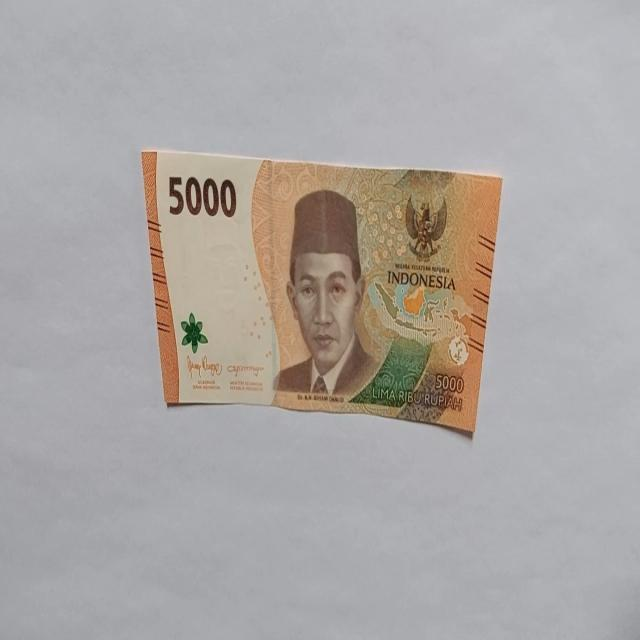lima ribu rupiah: (140, 146, 502, 436), (272, 188, 378, 400)
